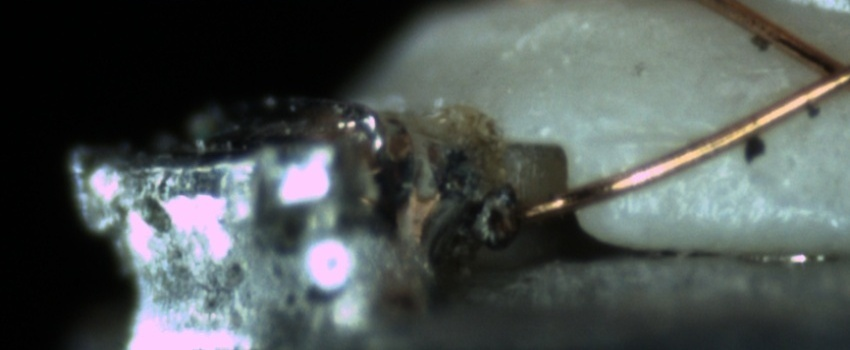CL: (781, 33, 849, 111)
DL: (608, 108, 739, 168)
